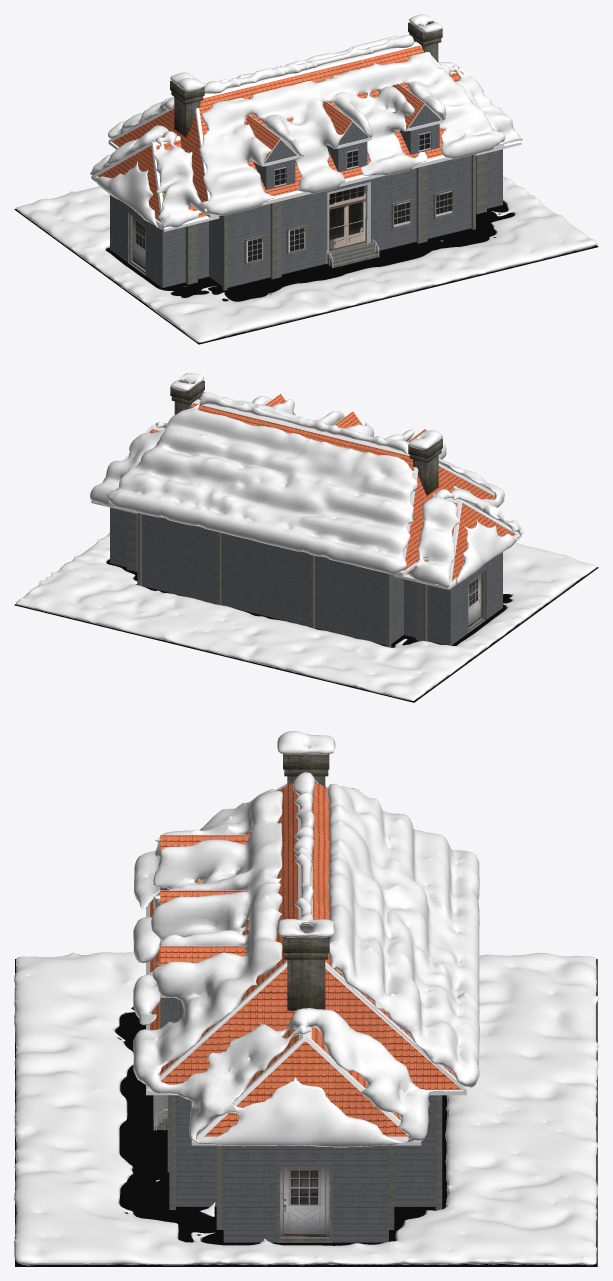
The model's file is House_S5P3.glb.
3 views of the same model, one above another, from view 1: azimuth 30°, elevation 25°; view 2: azimuth 150°, elevation 25°; view 3: azimuth 270°, elevation 25° (orthographic). The views are drawn at different scales.
Visible parts, largest first — view 1: SnowMesh, House1, Plane; view 2: SnowMesh, House1, Plane; view 3: SnowMesh, House1, Plane.
Boxes of the visible parts, <box> form: SnowMesh: <box>15,14,597,342</box>; House1: <box>91,21,521,290</box>; Plane: <box>14,201,598,344</box>; SnowMesh: <box>16,373,596,700</box>; House1: <box>91,380,521,647</box>; Plane: <box>14,559,598,702</box>; SnowMesh: <box>14,731,598,1265</box>; House1: <box>146,753,466,1242</box>; Plane: <box>15,959,597,1266</box>.
Bounding box in the file's own units: 10.04 × 4.35 × 8.03.
Materials: 12 (9 with a texture image).
